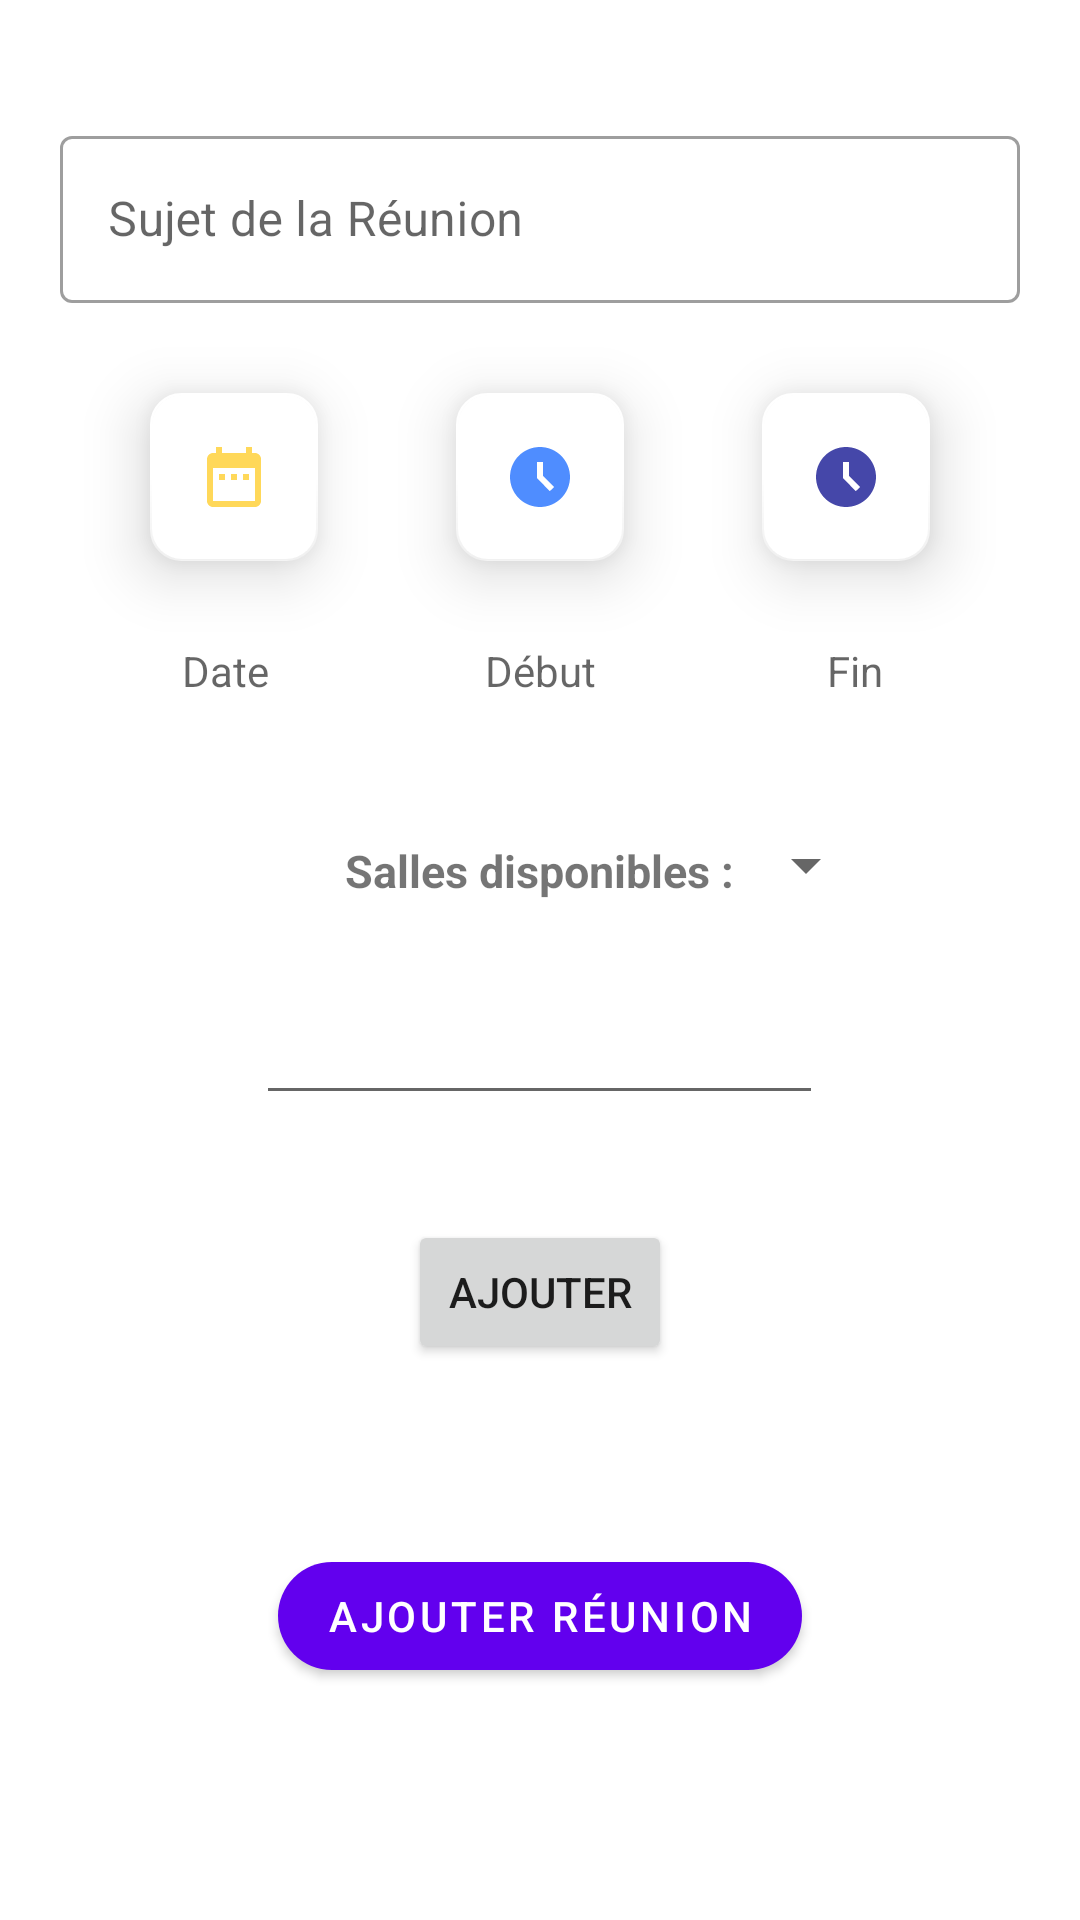

Named icons in this screenshot (1080 x 1920) and their bounding boxes, (x1, y1, x2, y2):
calendar: (207, 447, 261, 507)
end time: (816, 447, 876, 507)
start time: (510, 447, 570, 507)
